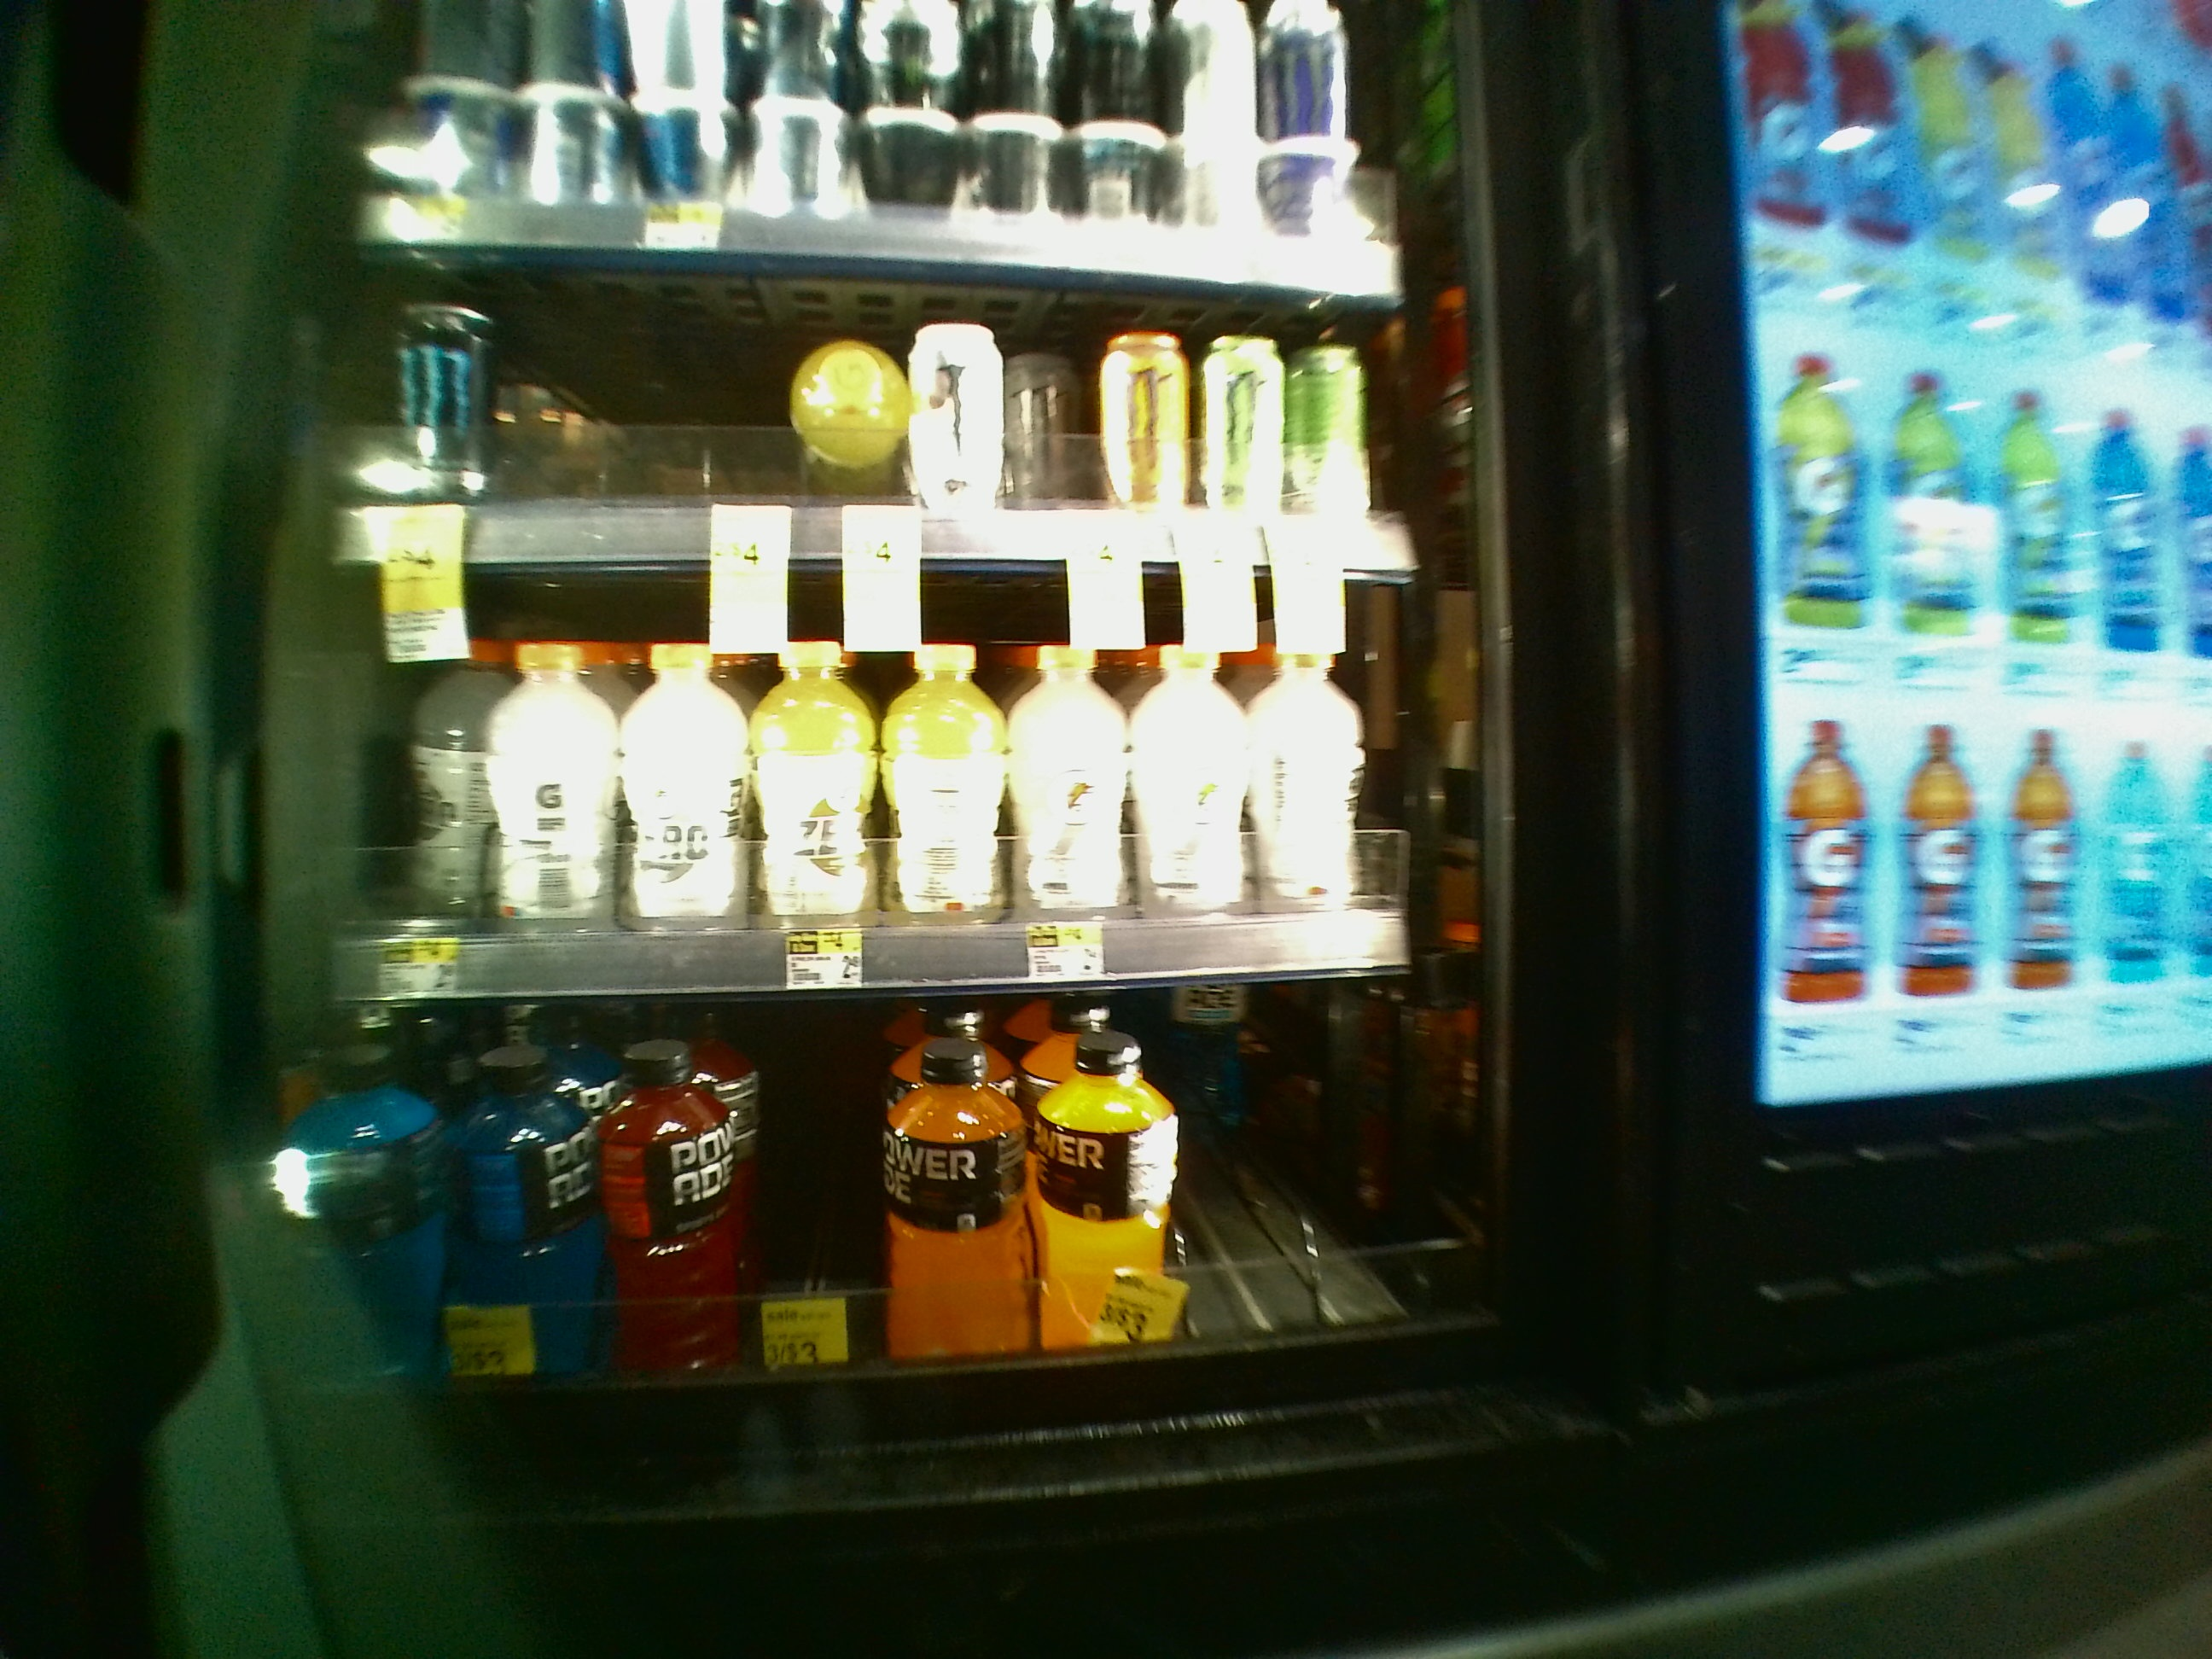shelf: (260, 951, 1527, 1373), (273, 532, 1510, 941)
